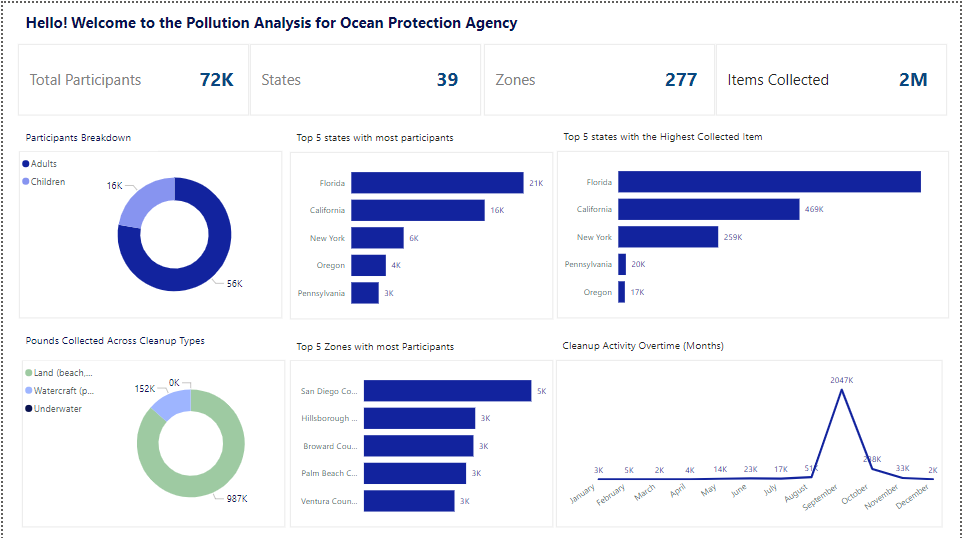

The dashboard page shown, as its layout file describes it:
{"tool":"powerbi","page":{"name":"Page 1","canvas":[1366,768],"ordinal":0},"visuals":[{"type":"textbox","box":[21.7,6.7,726.7,45],"z":0},{"type":"textbox","box":[353.3,58.3,330,101.7],"z":0,"group":"g6"},{"type":"textbox","box":[687.2,58.3,330,101.7],"z":0,"group":"g3"},{"type":"textbox","box":[1019.3,58.3,330,101.7],"z":0,"group":"g7"},{"type":"textbox","box":[21.7,58.8,330,101.7],"z":0,"group":"g1"},{"type":"card","fields":{"Values":["Sum(Table11.People)"]},"box":[269.5,84.7,69.1,48.7],"z":0,"group":"g2"},{"type":"textbox","box":[791.1,211,560,238.6],"z":0,"group":"g11"},{"type":"textbox","box":[22.4,212.1,375.7,238.6],"z":0,"group":"g4"},{"type":"textbox","box":[408.6,212.2,375.7,238.6],"z":0,"group":"g5"},{"type":"textbox","box":[789.7,509.6,552.4,238.6],"z":0,"group":"g10"},{"type":"textbox","box":[26.2,509.8,375.7,238.6],"z":0,"group":"g8"},{"type":"textbox","box":[409,510.6,375.7,238.6],"z":0,"group":"g9"},{"type":"group","id":"g1","title":"Total Participants","box":[21.7,58.8,330,101.4],"z":1000},{"type":"card","fields":{"Values":["Count(Table11.State)"]},"box":[601.1,84.2,69.1,48.7],"z":1000,"group":"g6"},{"type":"card","fields":{"Values":["Count(Table11.Zone)"]},"box":[935,84.2,69.1,48.7],"z":1000,"group":"g3"},{"type":"card","fields":{"Values":["Sum(Table11.Total Items Collected)"]},"box":[1267.1,84.2,69.1,48.7],"z":1000,"group":"g7"},{"type":"group","id":"g2","title":"Group 1","box":[32.5,84.7,306.8,49],"z":1000,"group":"g1"},{"type":"textbox","box":[32.5,88.6,191,41.9],"z":1000,"group":"g2"},{"type":"barChart","fields":{"Y":["Sum(Table11.Total Items Collected)"],"Category":["Table11.State"]},"box":[790,211,559,238.3],"z":1000,"group":"g11"},{"type":"donutChart","fields":{"Y":["Sum(Table11.Adults)","Sum(Table11.Children)"]},"box":[21.7,212.1,375,238.3],"z":1000,"group":"g4"},{"type":"barChart","fields":{"Y":["Sum(Table11.People)"],"Category":["Table11.State"]},"box":[407.9,212.2,375,238.3],"z":1000,"group":"g5"},{"type":"donutChart","fields":{"Y":["Sum(Table11.Pounds)"],"Category":["Table11.Cleanup Type"]},"box":[25.4,509.8,375,238.3],"z":1000,"group":"g8"},{"type":"lineChart","fields":{"Y":["Sum(Table11.Total Items Collected)"],"Category":["Date.Month(text)"]},"box":[799.1,510,552.4,238.6],"z":1000,"group":"g10"},{"type":"barChart","fields":{"Y":["Sum(Table11.People)"],"Category":["Table11.Zone"]},"box":[408.3,510.6,375,238.3],"z":1000,"group":"g9"},{"type":"group","id":"g3","title":"Zones","box":[687.2,58.3,330,101.7],"z":2000},{"type":"textbox","box":[364.1,88.1,191,41.9],"z":2000,"group":"g6"},{"type":"textbox","box":[698,88.1,191,41.9],"z":2000,"group":"g3"},{"type":"textbox","box":[1030.1,88.1,191,41.9],"z":2000,"group":"g7"},{"type":"textbox","box":[790,167.1,370.2,43.3],"z":2000,"group":"g11"},{"type":"textbox","box":[407.9,168.3,248.3,43.3],"z":2000,"group":"g5"},{"type":"textbox","box":[21.7,168.8,200,43.3],"z":2000,"group":"g4"},{"type":"textbox","box":[21,458,288.3,51.7],"z":2000,"group":"g8"},{"type":"textbox","box":[788.6,465.7,365.1,43.3],"z":2000,"group":"g10"},{"type":"textbox","box":[408,467,262,43],"z":2000,"group":"g9"},{"type":"group","id":"g4","title":"Participants Breakdown","box":[21.7,168.8,375,281.7],"z":3000},{"type":"group","id":"g5","title":"Participation By States","box":[407.9,168.3,376.4,282.5],"z":4000},{"type":"group","id":"g6","title":"States","box":[353.3,58.3,330,101.7],"z":5000},{"type":"group","id":"g7","title":"Items collected","box":[1019.3,58.3,330,101.7],"z":6000},{"type":"group","id":"g8","title":"Pounds collected across clean up","box":[21,458,382,292],"z":7000},{"type":"group","id":"g9","title":"Participation By zones","box":[408,467,376.8,282.1],"z":8000},{"type":"group","id":"g10","title":"Clean up Activity overtime(Months)","box":[788.6,465.7,562.9,282.9],"z":9000},{"type":"group","id":"g11","title":"collected items by States","box":[790,167.1,558.6,282.9],"z":10000}]}

Visuals, with their boxes in screenshot pixels (x1, y1, x2, y2), scaled from the page's 1366x768 canvas onto the 963x538 screenshot:
textbox: 15/5/528/36
textbox: 249/41/482/112
textbox: 484/41/717/112
textbox: 719/41/951/112
textbox: 15/41/248/112
card - Sum(Table11.People): 190/59/239/93
textbox: 558/148/952/315
textbox: 16/149/281/316
textbox: 288/149/553/316
textbox: 557/357/946/524
textbox: 18/357/283/524
textbox: 288/358/553/525
"Total Participants" group: 15/41/248/112
card - Count(Table11.State): 424/59/472/93
card - Count(Table11.Zone): 659/59/708/93
card - Sum(Table11.Total Items Collected): 893/59/942/93
"Group 1" group: 23/59/239/94
textbox: 23/62/158/91
barChart - Sum(Table11.Total Items Collected) x Table11.State: 557/148/951/315
donutChart - Sum(Table11.Adults) x Sum(Table11.Children): 15/149/280/316
barChart - Sum(Table11.People) x Table11.State: 288/149/552/316
donutChart - Sum(Table11.Pounds) x Table11.Cleanup Type: 18/357/282/524
lineChart - Sum(Table11.Total Items Collected) x Date.Month(text): 563/357/953/524
barChart - Sum(Table11.People) x Table11.Zone: 288/358/552/525
"Zones" group: 484/41/717/112
textbox: 257/62/391/91
textbox: 492/62/627/91
textbox: 726/62/861/91
textbox: 557/117/818/147
textbox: 288/118/463/148
textbox: 15/118/156/149
textbox: 15/321/218/357
textbox: 556/326/813/357
textbox: 288/327/472/357
"Participants Breakdown" group: 15/118/280/316
"Participation By States" group: 288/118/553/316
"States" group: 249/41/482/112
"Items collected" group: 719/41/951/112
"Pounds collected across clean up" group: 15/321/284/525
"Participation By zones" group: 288/327/553/525
"Clean up Activity overtime(Months)" group: 556/326/953/524
"collected items by States" group: 557/117/951/315
